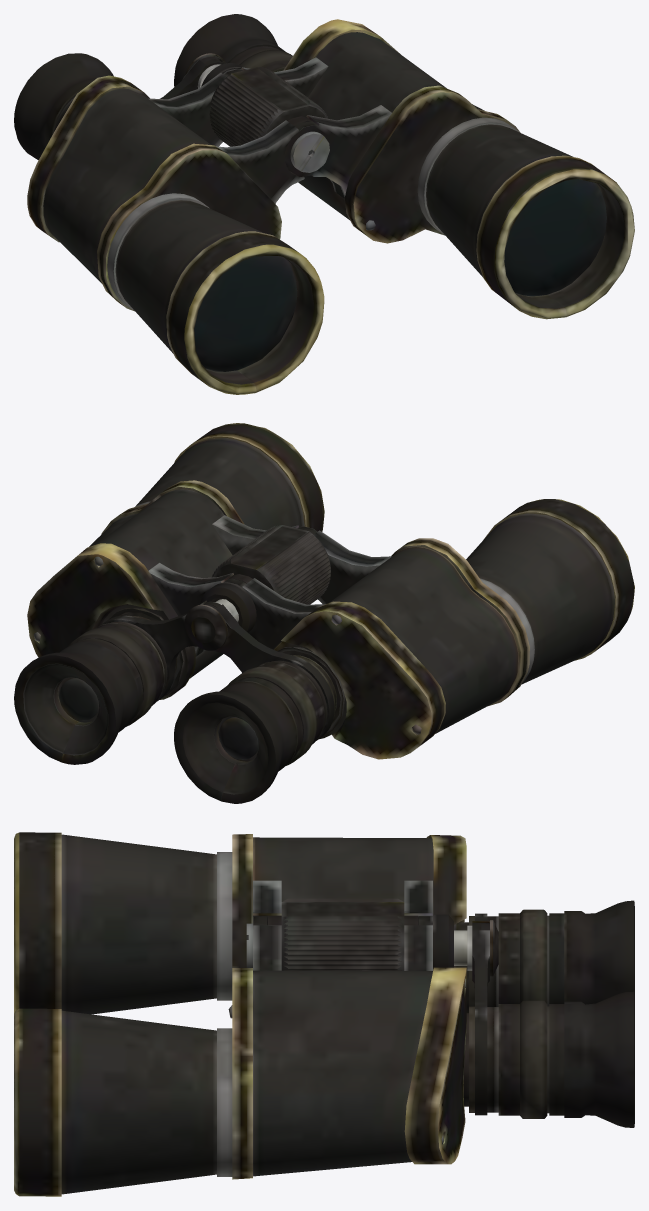
File: binoculars.glb
3 views of the same model, one above another, from view 1: azimuth 30°, elevation 25°; view 2: azimuth 150°, elevation 25°; view 3: azimuth 270°, elevation 25° (orthographic). The views are drawn at different scales.
Parts seen in each view (by area): view 1: vintage_binocular_right_prism, vintage_binocular_left_prism, vintage_binocular_right_lens, vintage_binocular_focus, vintage_binocular_left_lens, vintage_binocular_middle; view 2: vintage_binocular_right_prism, vintage_binocular_left_prism, vintage_binocular_left_lens, vintage_binocular_right_lens, vintage_binocular_focus, vintage_binocular_diopter, vintage_binocular_eye_relief, vintage_binocular_middle; view 3: vintage_binocular_left_prism, vintage_binocular_right_prism, vintage_binocular_left_lens, vintage_binocular_right_lens, vintage_binocular_focus, vintage_binocular_diopter, vintage_binocular_middle, vintage_binocular_eye_relief.
Part boxes in pixels (bbox=[...]): vintage_binocular_right_prism: bbox=[27, 73, 324, 394]; vintage_binocular_left_prism: bbox=[223, 19, 634, 319]; vintage_binocular_right_lens: bbox=[14, 53, 224, 159]; vintage_binocular_focus: bbox=[209, 67, 327, 146]; vintage_binocular_left_lens: bbox=[174, 14, 292, 86]; vintage_binocular_middle: bbox=[201, 63, 329, 172]; vintage_binocular_right_prism: bbox=[228, 499, 634, 759]; vintage_binocular_left_prism: bbox=[27, 423, 324, 699]; vintage_binocular_left_lens: bbox=[14, 600, 217, 764]; vintage_binocular_right_lens: bbox=[174, 601, 336, 803]; vintage_binocular_focus: bbox=[211, 525, 330, 604]; vintage_binocular_diopter: bbox=[227, 661, 324, 765]; vintage_binocular_eye_relief: bbox=[184, 599, 238, 650]; vintage_binocular_middle: bbox=[200, 582, 256, 632]; vintage_binocular_left_prism: bbox=[14, 916, 466, 1196]; vintage_binocular_right_prism: bbox=[14, 832, 466, 1018]; vintage_binocular_left_lens: bbox=[463, 923, 634, 1127]; vintage_binocular_right_lens: bbox=[456, 900, 634, 1012]; vintage_binocular_focus: bbox=[281, 898, 404, 970]; vintage_binocular_diopter: bbox=[498, 909, 547, 1003]; vintage_binocular_middle: bbox=[246, 914, 453, 970]; vintage_binocular_eye_relief: bbox=[454, 920, 498, 976].
Bounding box in the file's own units: 0.194 × 0.0684 × 0.1992.
1 material, 1 textured.
